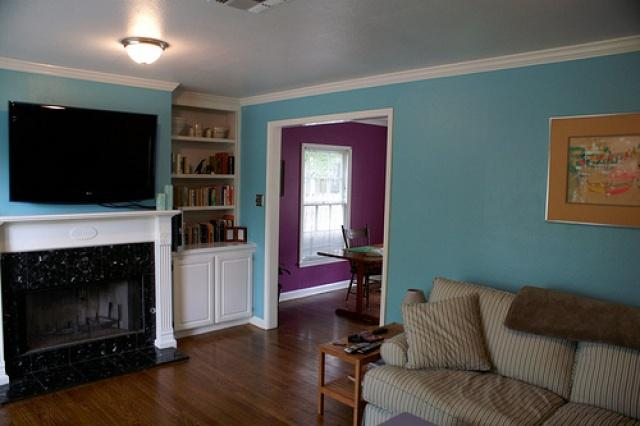AIO PC-Monitor-TV: (6, 99, 158, 205)
Lemari: (169, 243, 256, 333)
Rak: (169, 102, 240, 246)
